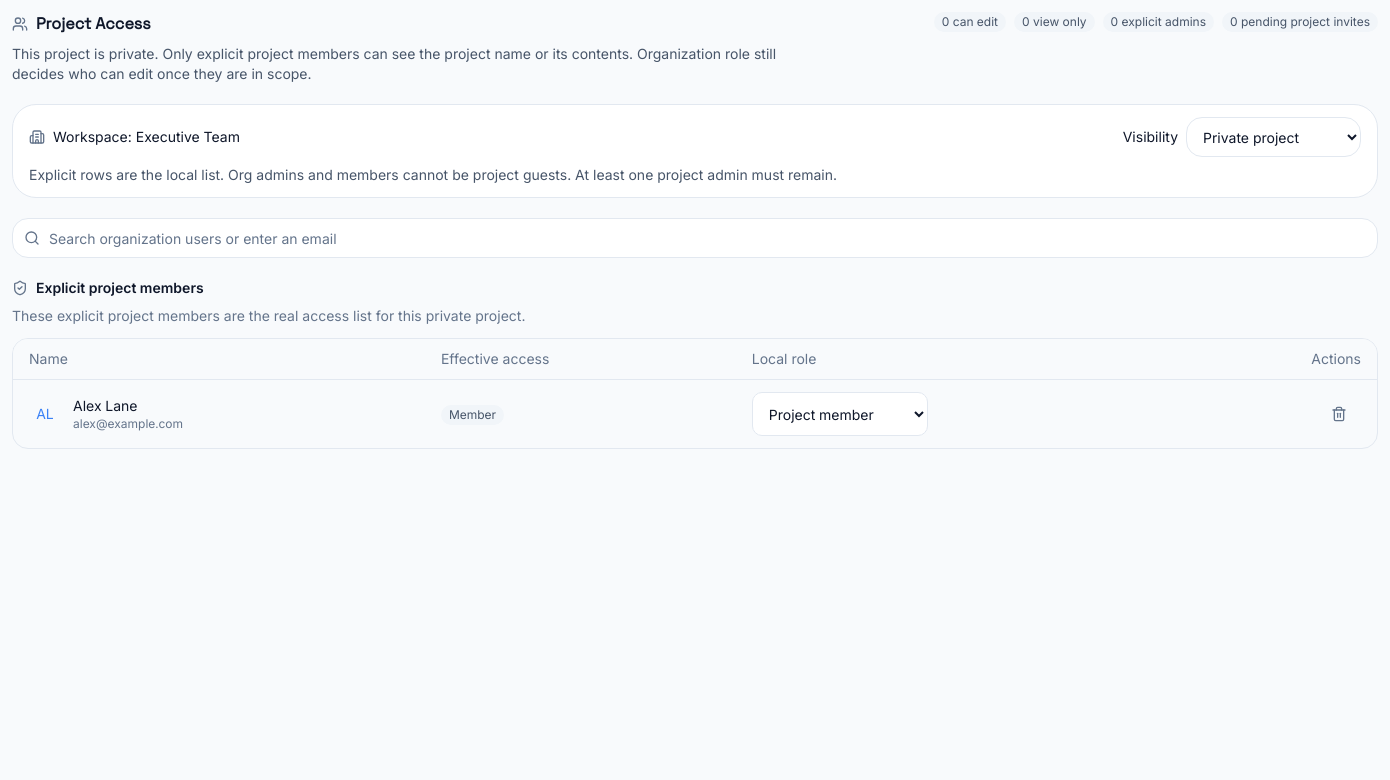
it: ProjectAccessSection › shows an existing-member state instead of the external guest invite CTA
Type "alex@example.com" into the field with placeholder "Search organization users or enter an email" at (695,238), box [12,218,1378,258]
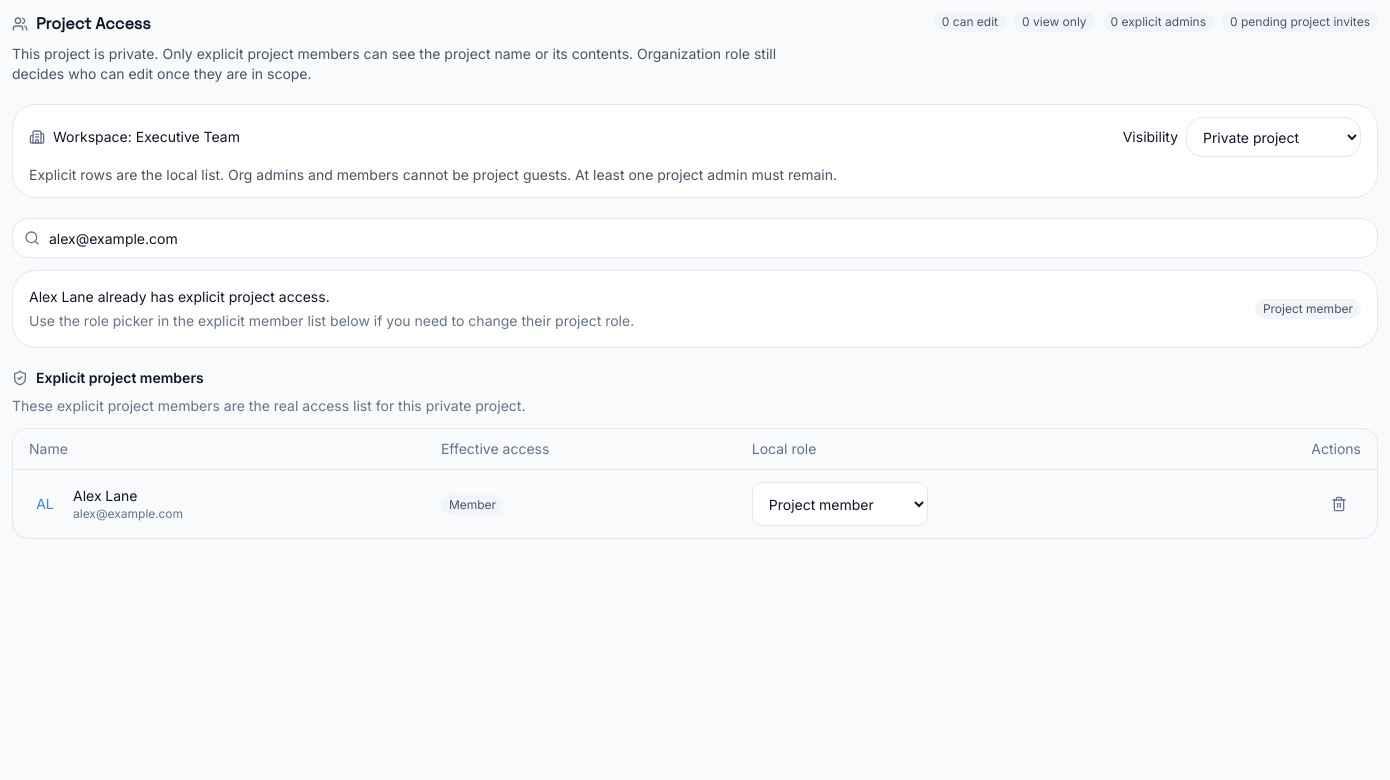
Now the text "Alex Lane already has explicit project access." is shown, box [29,288,330,305]
Now the text "Use the role picker in the explicit member list below" is shown, box [29,312,634,329]
